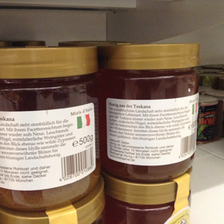honey: (3, 44, 107, 210), (103, 44, 200, 179)
